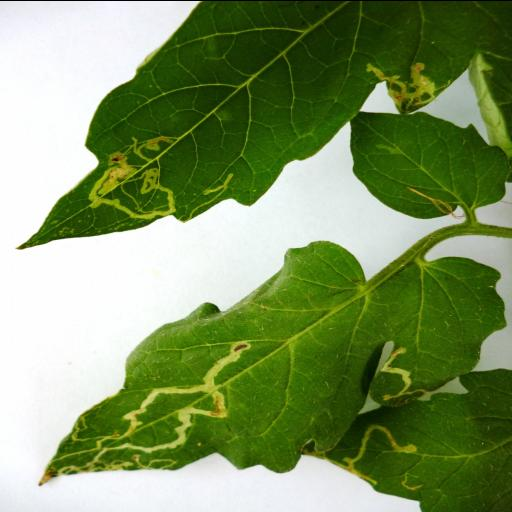disease_tomato: (14, 0, 485, 250), (33, 238, 507, 486)
